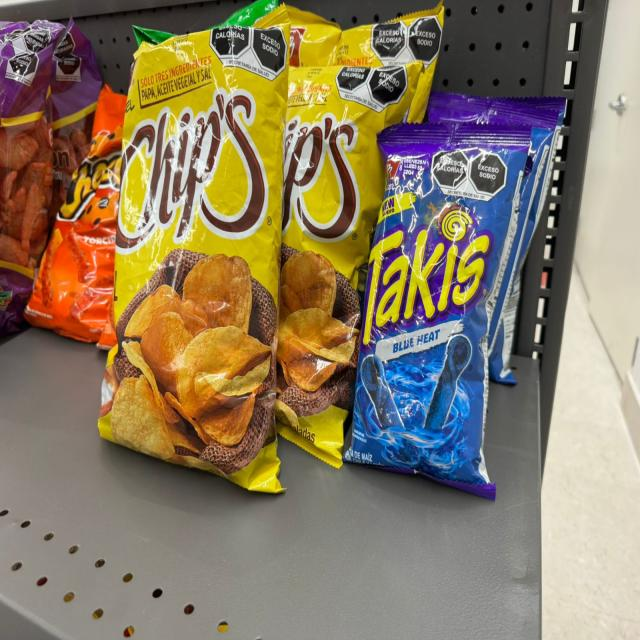Cheetos grandes: (24, 84, 127, 349)
Papas Chips Barcel 170 gr bolsa con sal: (99, 4, 288, 491), (276, 60, 422, 468), (340, 4, 442, 123), (283, 4, 342, 68)
RUFFLES QUESO 185GR: (222, 0, 279, 26), (133, 26, 176, 46)
Takis Blue 75g: (342, 124, 532, 499), (429, 93, 559, 358), (488, 98, 566, 383)
chicharrones de cerdo intenso: (1, 21, 65, 330), (49, 14, 103, 232)
